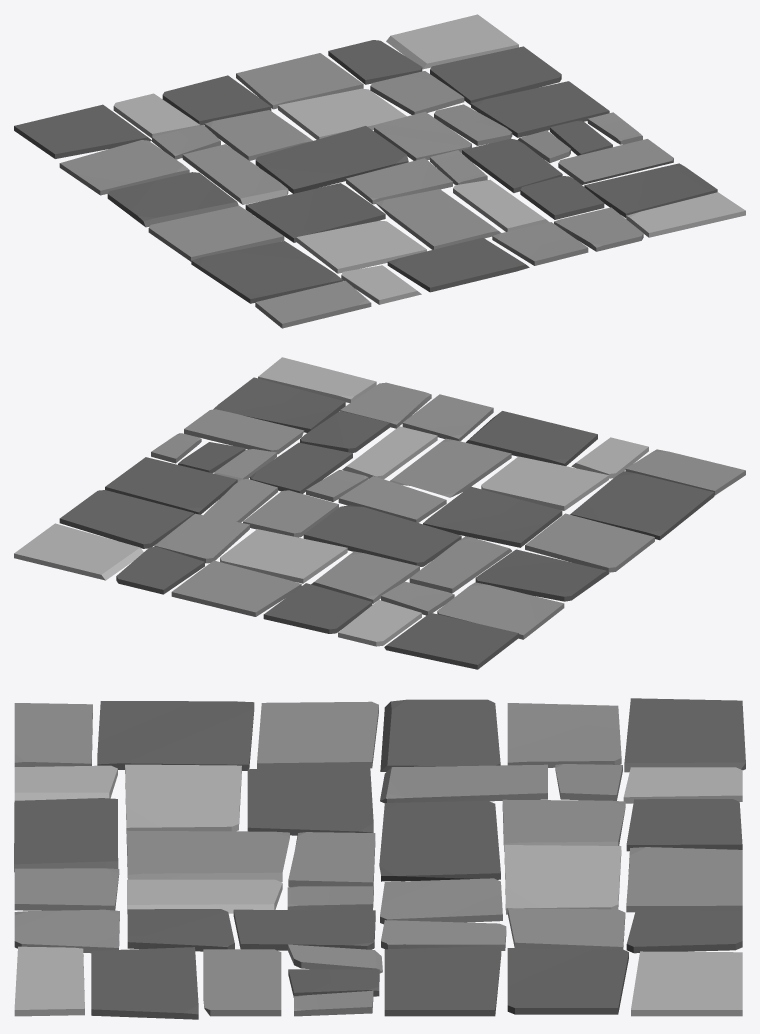
File: floor_034.glb
3 views of the same model, one above another, from view 1: azimuth 30°, elevation 25°; view 2: azimuth 150°, elevation 25°; view 3: azimuth 270°, elevation 25° (orthographic). The views are drawn at different scales.
Parts seen in each view (by area): view 1: floor_034; view 2: floor_034; view 3: floor_034.
Part boxes in pixels (x1,y1,x2,y2): floor_034: [14, 14, 745, 328]; floor_034: [14, 357, 745, 669]; floor_034: [14, 698, 745, 1019].
Size of the model in its own units: 3.75 by 0.0773 by 3.74.
Materials: 1 (1 with a texture image).
